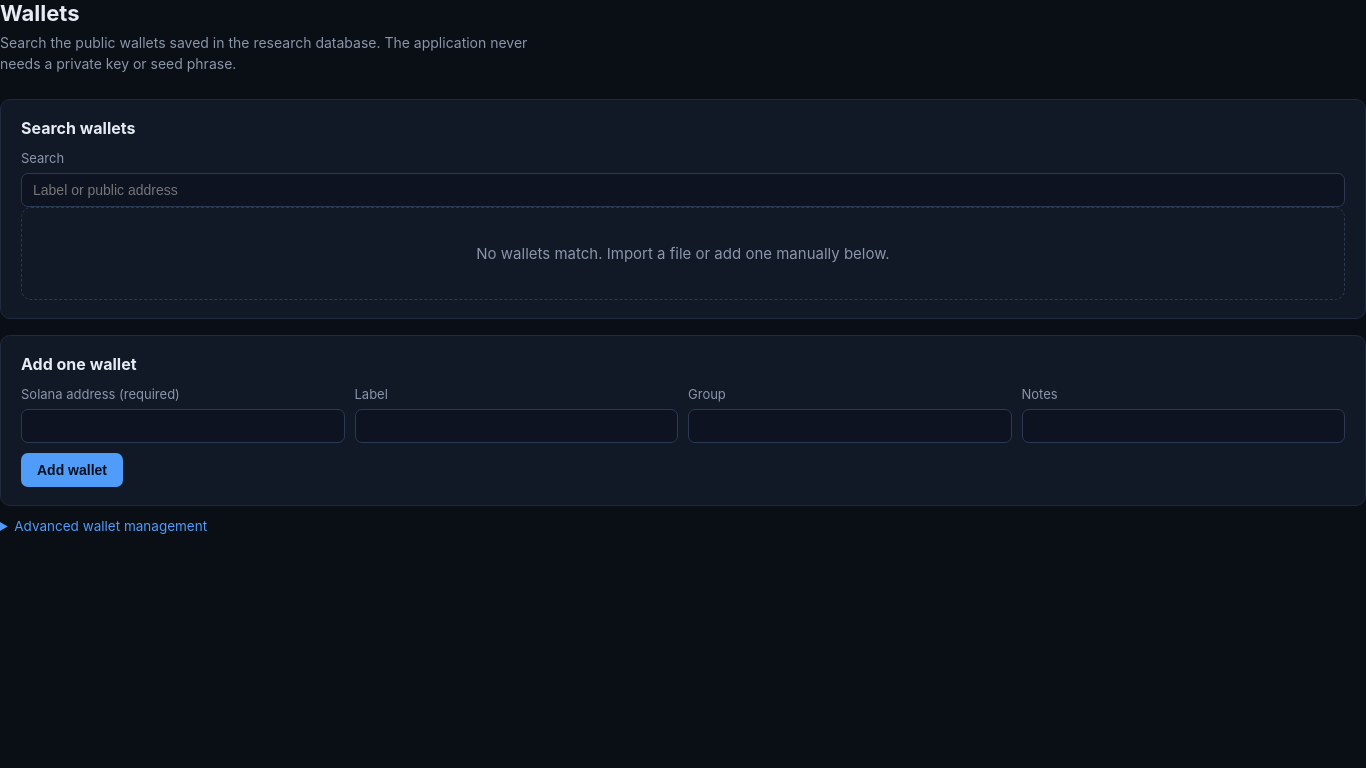
it: page smoke rendering › Wallets page leads with search and the no-private-key explanation in Simple Mode
The image size is (1366, 768).
Expected: the text "never needs a private key or seed phrase" is shown, [0,34,527,72]
Expected: the heading "Search wallets" is shown, [21,118,136,138]
Click the heading "Advanced wallet management": (111, 526) [14,518,207,534]
(page scrolled)
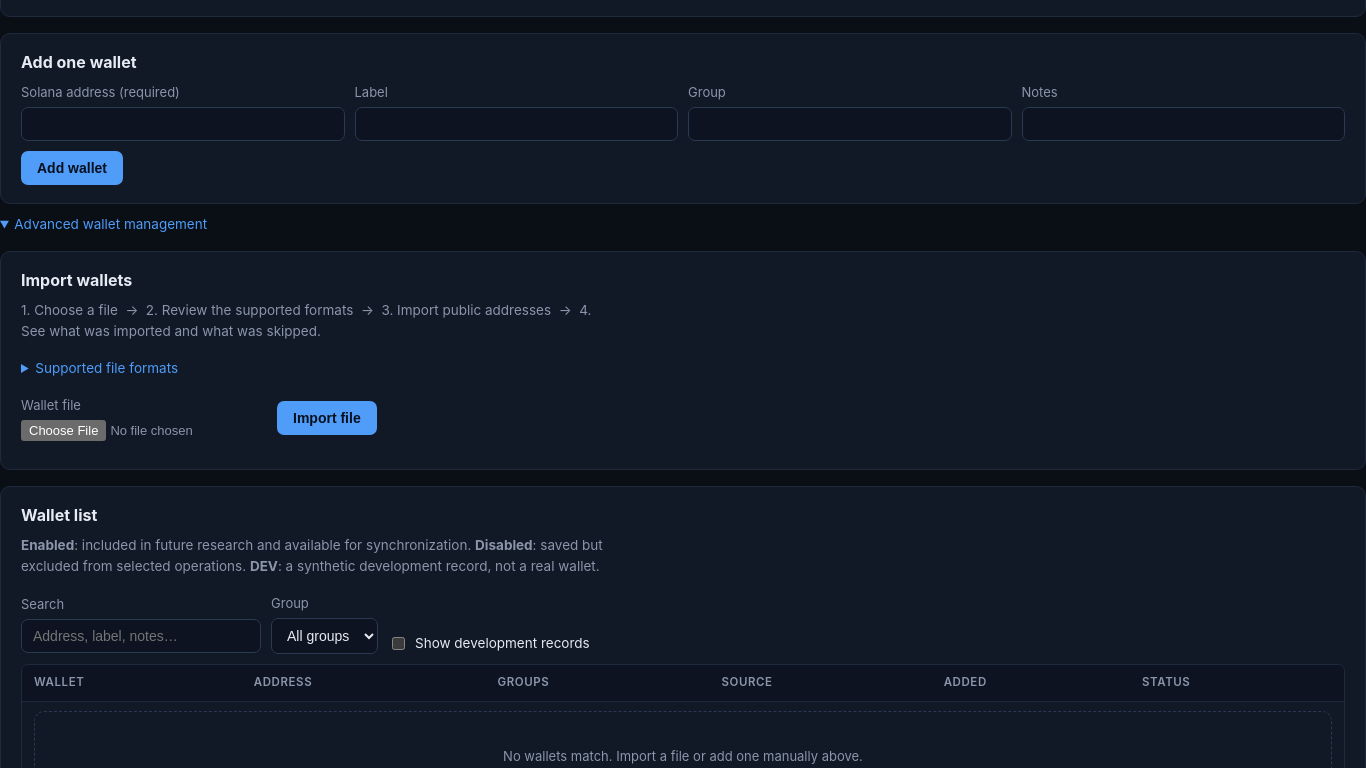
Expected: the heading "Import wallets" is shown, [21,270,132,290]
Expected: the heading "Supported file formats" is shown, [35,360,178,376]
Expected: the checkbox labelled "Show development records" is shown, [392,637,405,650]
